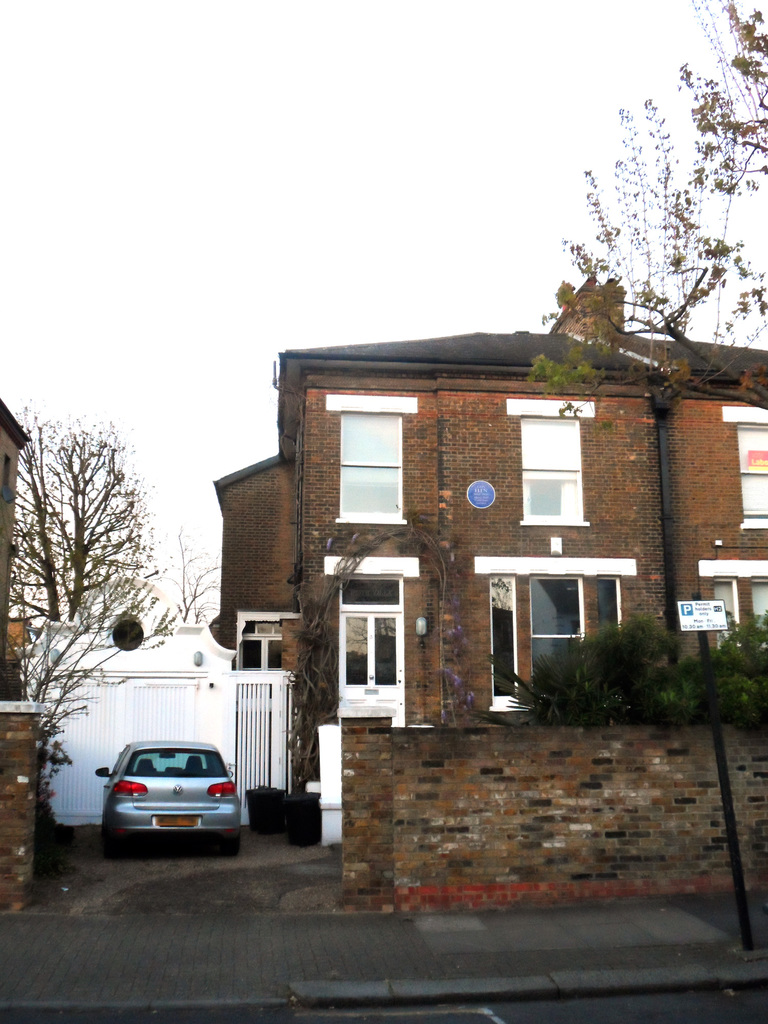Car: (94, 741, 243, 848)
